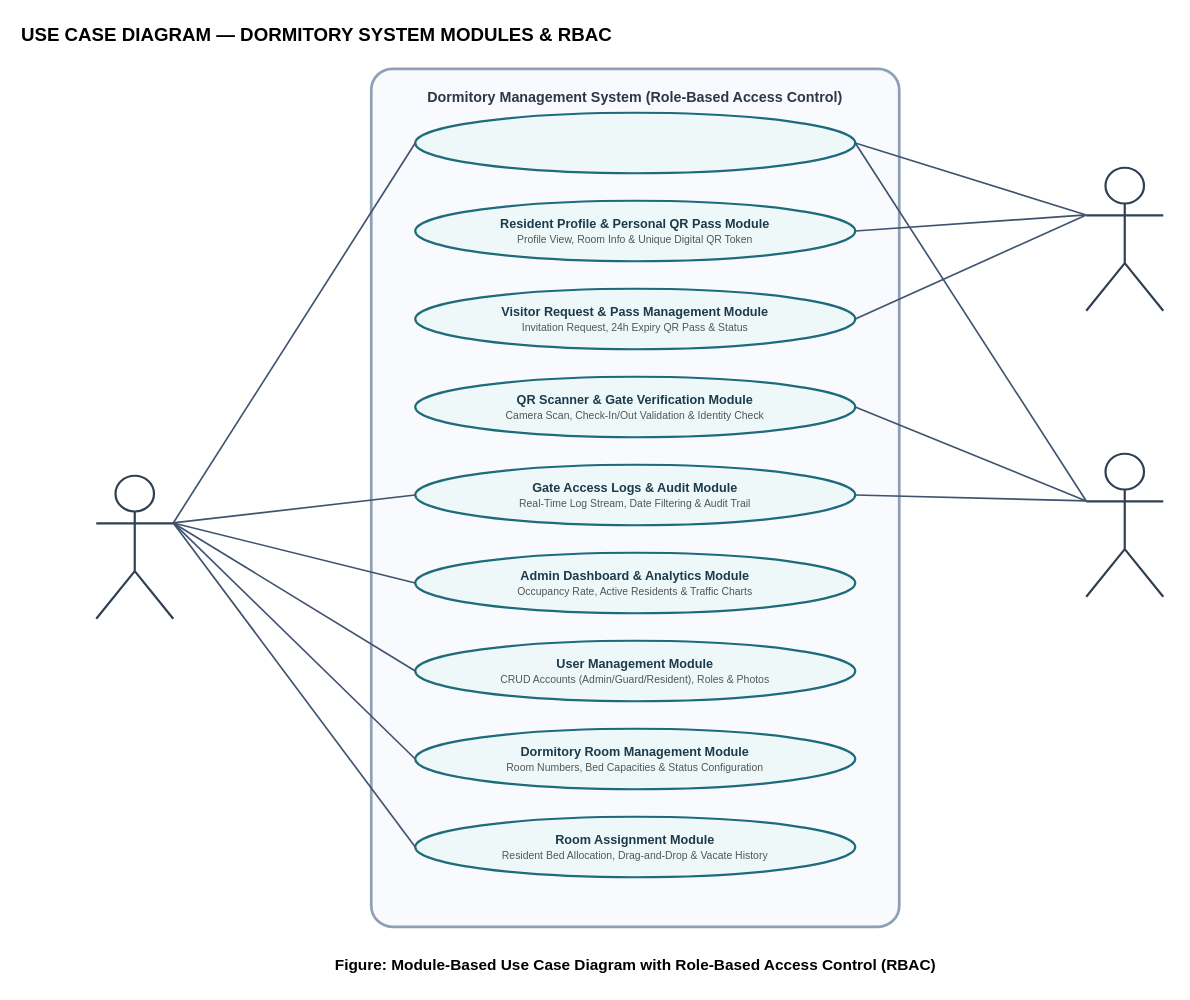
Some shapes in this 1190 by 1000 pixel diagram are drawn without their labels. Each missing label, with the centre of its shape:
"Administrator (Web Portal)" belongs at (134,546).
"Authentication & Session Module JWT Login, Password Hashing & RBAC Route Guard" belongs at (635,142).
"Resident (Web / Mobile)" belongs at (1124,238).
"Security Guard (Mobile Scanner)" belongs at (1124,524).
